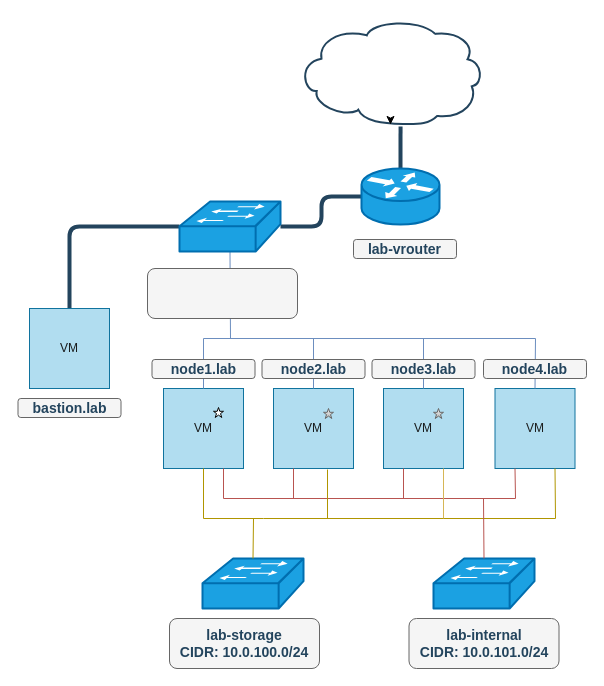
The diagram is 604 pixels wide and 686 high, and some of its shapes have lost their labels. The centre of each missing label's shape, as x and y in pixels:
"Internet" goes at point (390, 71).
"lab-public CIDR: 10.0.102.0/24 GW: 10.0.102.1" goes at point (222, 293).
